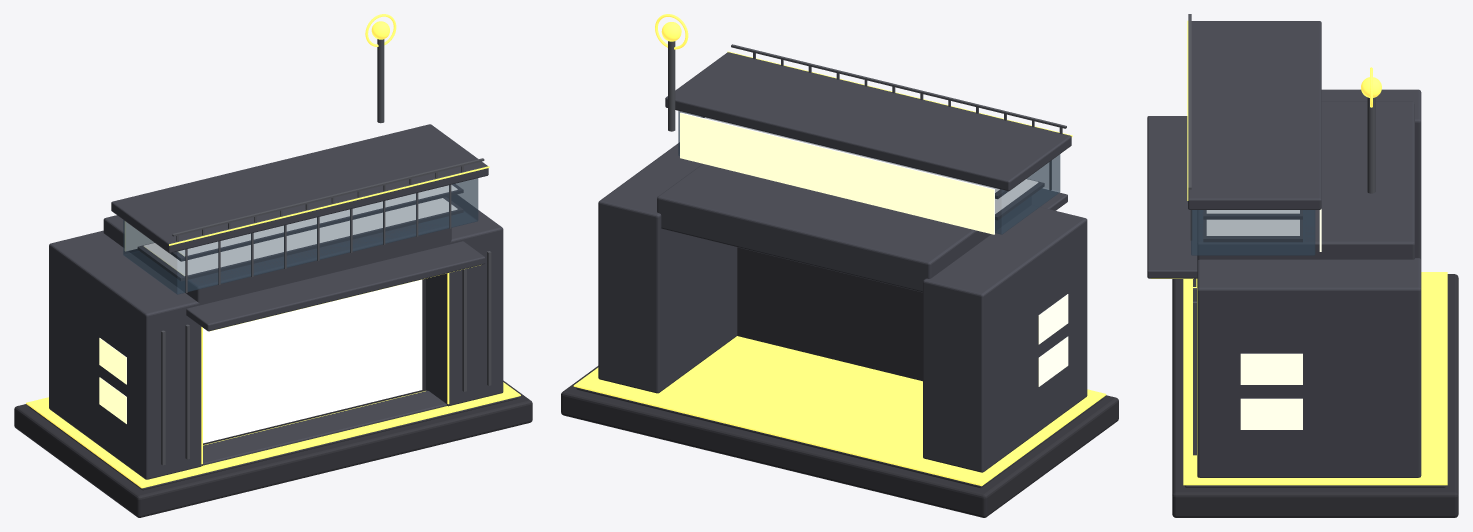
File: cryptolution-house.glb
3 renders of one model, left to right at view 1: azimuth 30°, elevation 25°; view 2: azimuth 150°, elevation 25°; view 3: azimuth 270°, elevation 25°, orthographic. The views are drawn at different scales.
Visible parts, largest first — view 1: pier_-1, recess_warm, parapet, plinth, upper_glass, pier_1, lintel, marquee, sill, plinth_edge, floorglow_87, floorglow_95 (+13 smaller); view 2: pier_-1, parapet, plinth_edge, pier_1, lintel, plinth, recess_back, upper_warm_wall, upper_glass, plinth_top, rail_top, pierwin_-1_28 (+2 smaller); view 3: pier_1, parapet, lintel, plinth, plinth_edge, marquee, upper_glass, pier_-1, pierwin_1_28, pierwin_1_44, floorglow_87, mast (+6 smaller).
Boxes of the visible parts, x1=… form: pier_-1: x1=49, y1=230, x2=201, y2=479; recess_warm: x1=203, y1=279, x2=422, y2=443; parapet: x1=111, y1=124, x2=488, y2=253; plinth: x1=14, y1=380, x2=532, y2=517; upper_glass: x1=123, y1=178, x2=478, y2=294; pier_1: x1=426, y1=195, x2=503, y2=406; lintel: x1=103, y1=215, x2=451, y2=305; marquee: x1=186, y1=241, x2=485, y2=331; sill: x1=202, y1=390, x2=446, y2=465; plinth_edge: x1=26, y1=382, x2=520, y2=488; floorglow_87: x1=144, y1=198, x2=457, y2=275; floorglow_95: x1=178, y1=185, x2=457, y2=256; pier_-1: x1=923, y1=205, x2=1087, y2=472; parapet: x1=665, y1=52, x2=1071, y2=191; plinth_edge: x1=573, y1=336, x2=1106, y2=486; pier_1: x1=598, y1=142, x2=737, y2=393; lintel: x1=657, y1=164, x2=1031, y2=292; plinth: x1=561, y1=366, x2=1118, y2=517; recess_back: x1=737, y1=247, x2=922, y2=381; upper_warm_wall: x1=680, y1=112, x2=994, y2=234; upper_glass: x1=678, y1=111, x2=1060, y2=234; plinth_top: x1=576, y1=387, x2=1103, y2=488; rail_top: x1=731, y1=44, x2=1066, y2=128; pierwin_-1_28: x1=1038, y1=336, x2=1068, y2=386; pier_1: x1=1197, y1=258, x2=1421, y2=477; parapet: x1=1188, y1=21, x2=1321, y2=209; lintel: x1=1197, y1=101, x2=1414, y2=260; plinth: x1=1172, y1=274, x2=1458, y2=517; plinth_edge: x1=1183, y1=272, x2=1447, y2=485; marquee: x1=1147, y1=116, x2=1197, y2=278; upper_glass: x1=1191, y1=210, x2=1315, y2=255; pier_-1: x1=1321, y1=89, x2=1421, y2=259; pierwin_1_28: x1=1240, y1=398, x2=1302, y2=429; pierwin_1_44: x1=1240, y1=353, x2=1302, y2=384; floorglow_87: x1=1206, y1=219, x2=1299, y2=235; mast: x1=1367, y1=97, x2=1375, y2=193.
Bounding box in the file's own units: 168 × 146 × 100.
